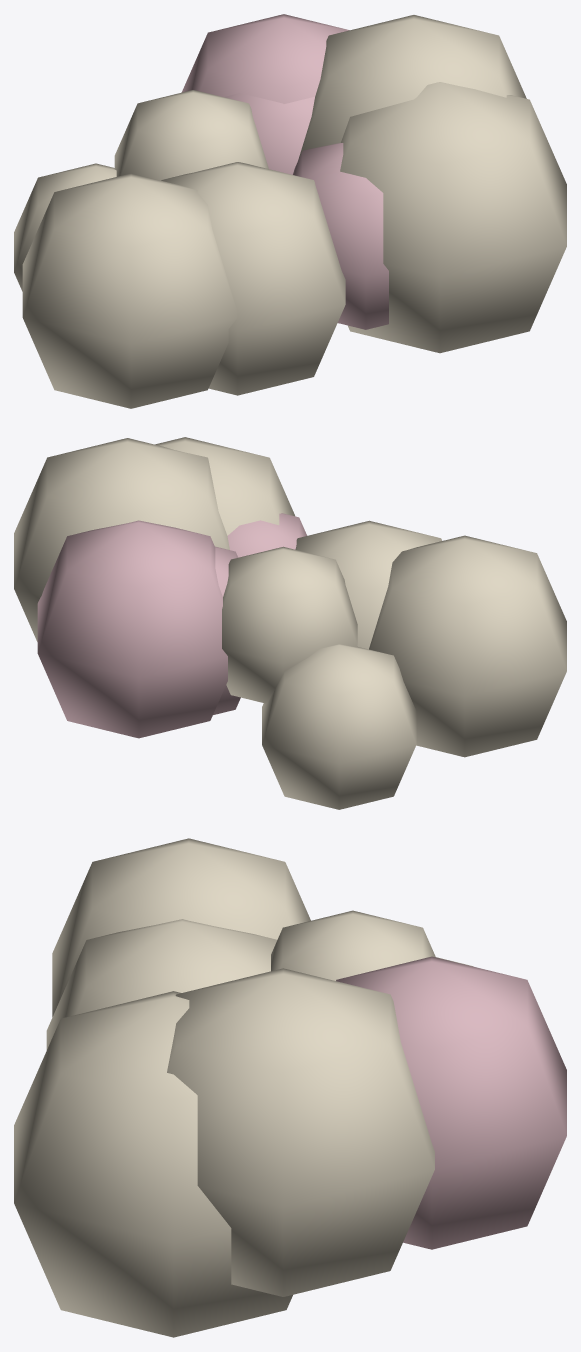
The model's file is col_wool_tuft.gltf.
The picture shows the model from 3 angles, top to bottom: view 1: azimuth 30°, elevation 25°; view 2: azimuth 150°, elevation 25°; view 3: azimuth 270°, elevation 25°; orthographic projection. The views are drawn at different scales.
Parts seen in each view (by area): view 1: col_wool_tuft; view 2: col_wool_tuft; view 3: col_wool_tuft.
Part boxes in pixels (bbox=[...]): col_wool_tuft: bbox=[14, 14, 566, 408]; col_wool_tuft: bbox=[14, 437, 566, 809]; col_wool_tuft: bbox=[14, 838, 566, 1337].
Size of what is drawn, in the model's own units: 0.1297 by 0.066 by 0.0899.
